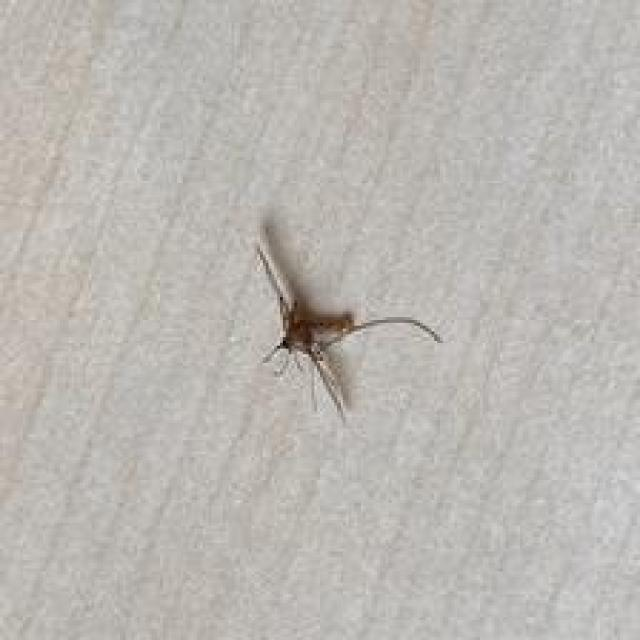Culex: (251, 226, 443, 423)
